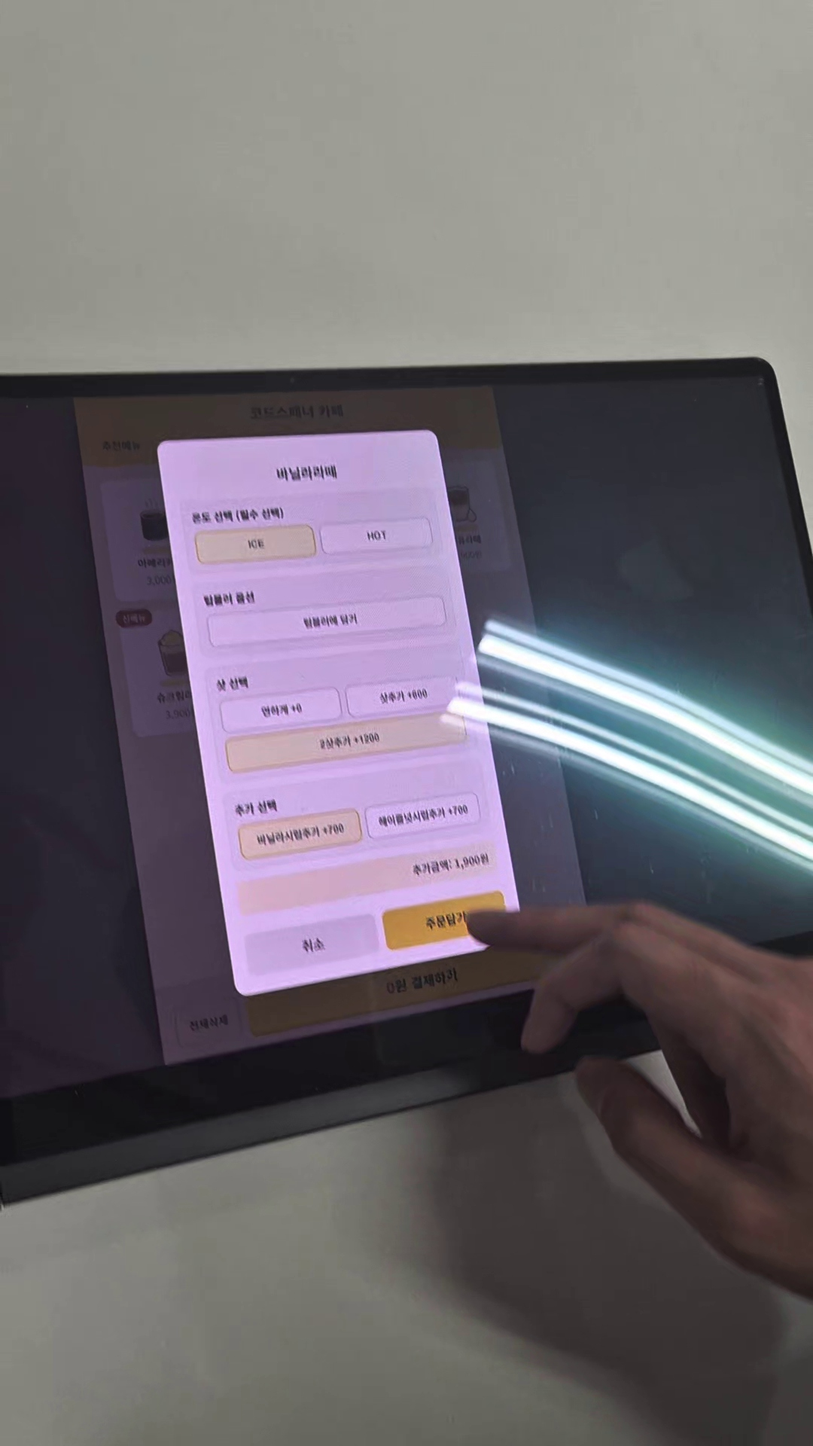action_button: (247, 916, 377, 977), (382, 893, 507, 952)
option_button: (227, 712, 468, 773), (210, 596, 446, 645), (240, 810, 362, 860), (221, 688, 341, 732), (367, 793, 479, 837), (195, 525, 315, 564), (349, 678, 457, 716), (321, 518, 431, 554)
popup_modal: (157, 428, 523, 993)
